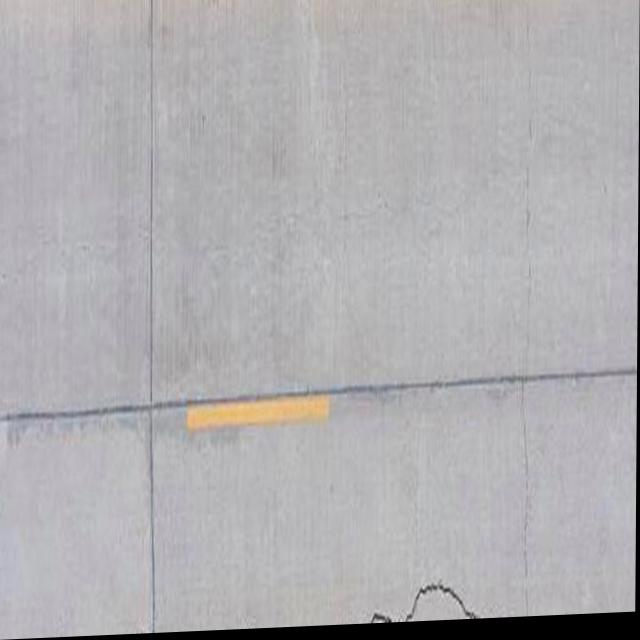Crack: (332, 563, 516, 628)
